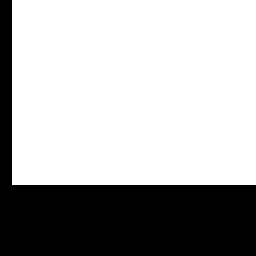rumex: (12, 0, 256, 184)
